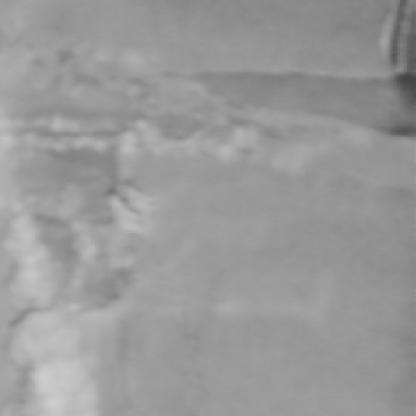polar-bear: (104, 188, 142, 230), (114, 182, 153, 215)
